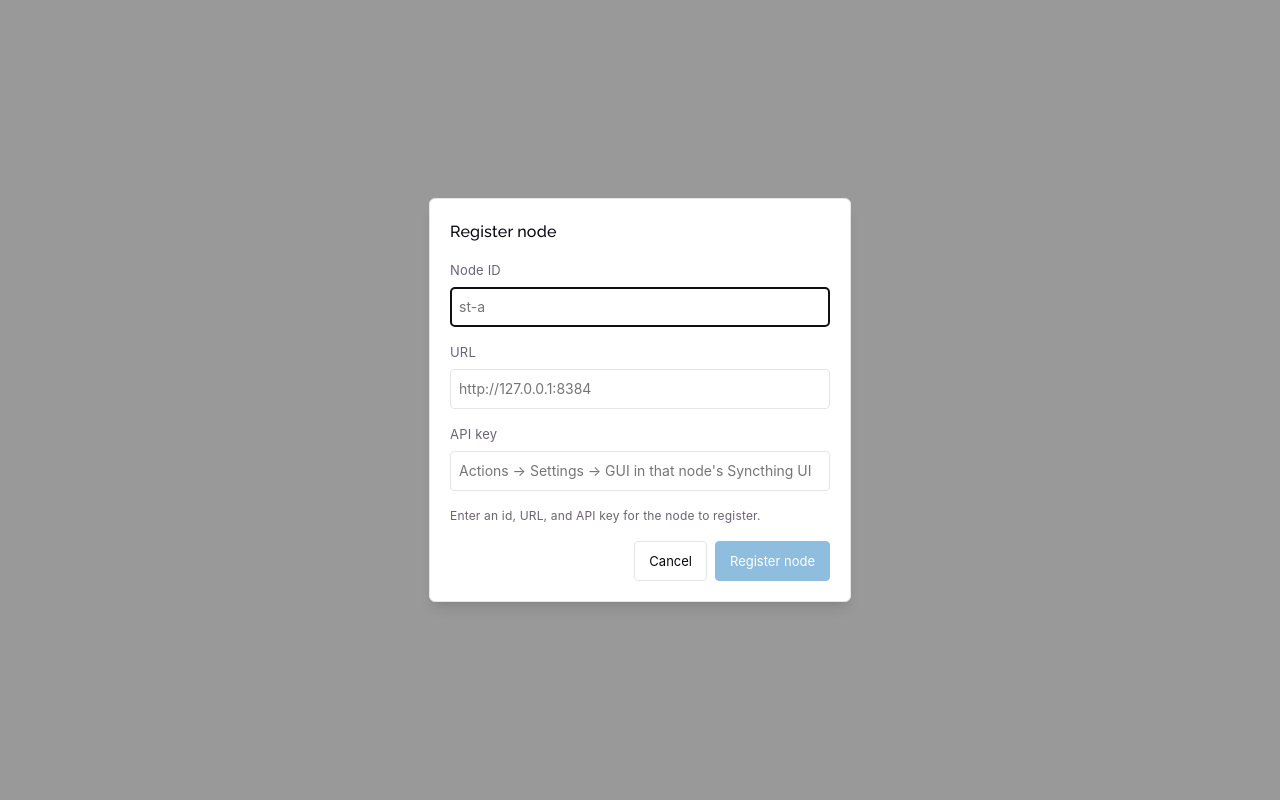
RegisterNodeDialog › shows the mutation error inline and re-enables the form instead of closing
Type "st-c" into the field with placeholder "st-a". click: x=640, y=307
box: [450, 287, 830, 327]
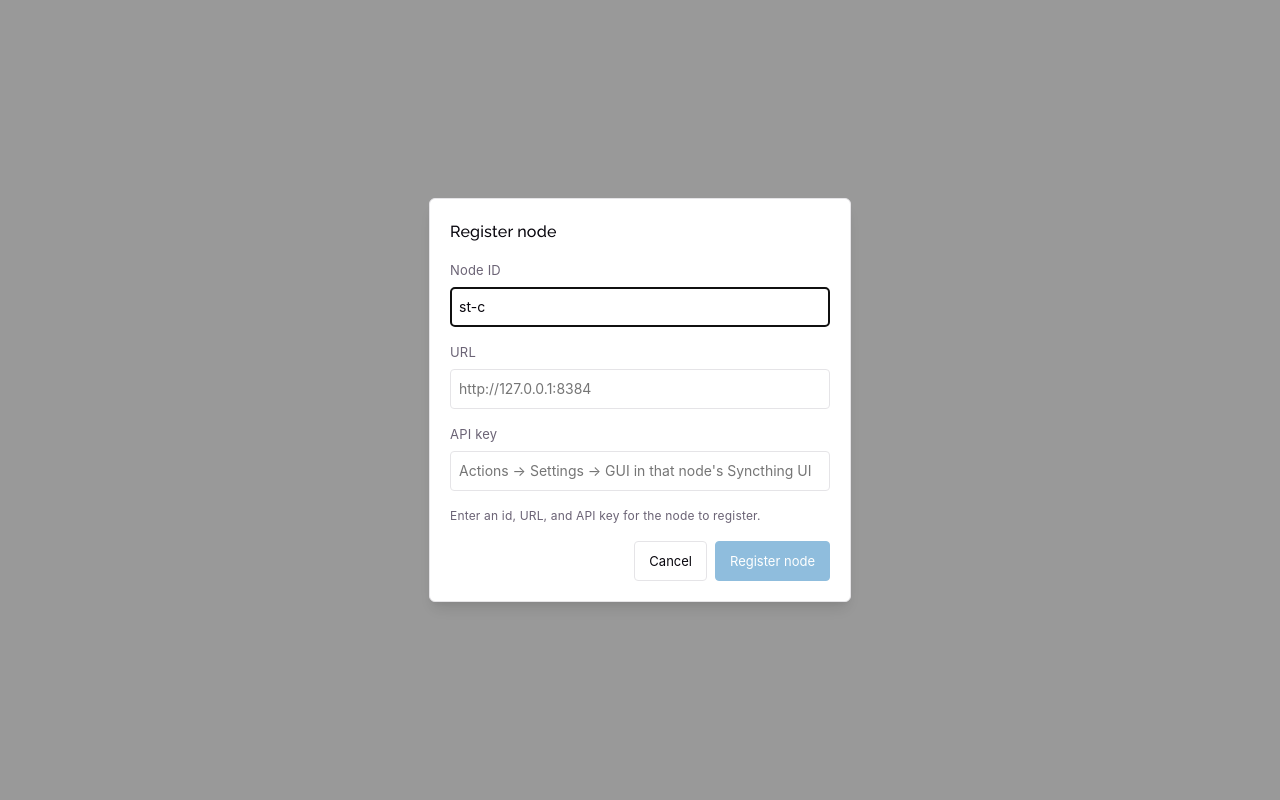
Type "http://127.0.0.1:38384" into the field with placeholder "http://127.0.0.1:8384". click: x=640, y=389
box: [450, 369, 830, 409]
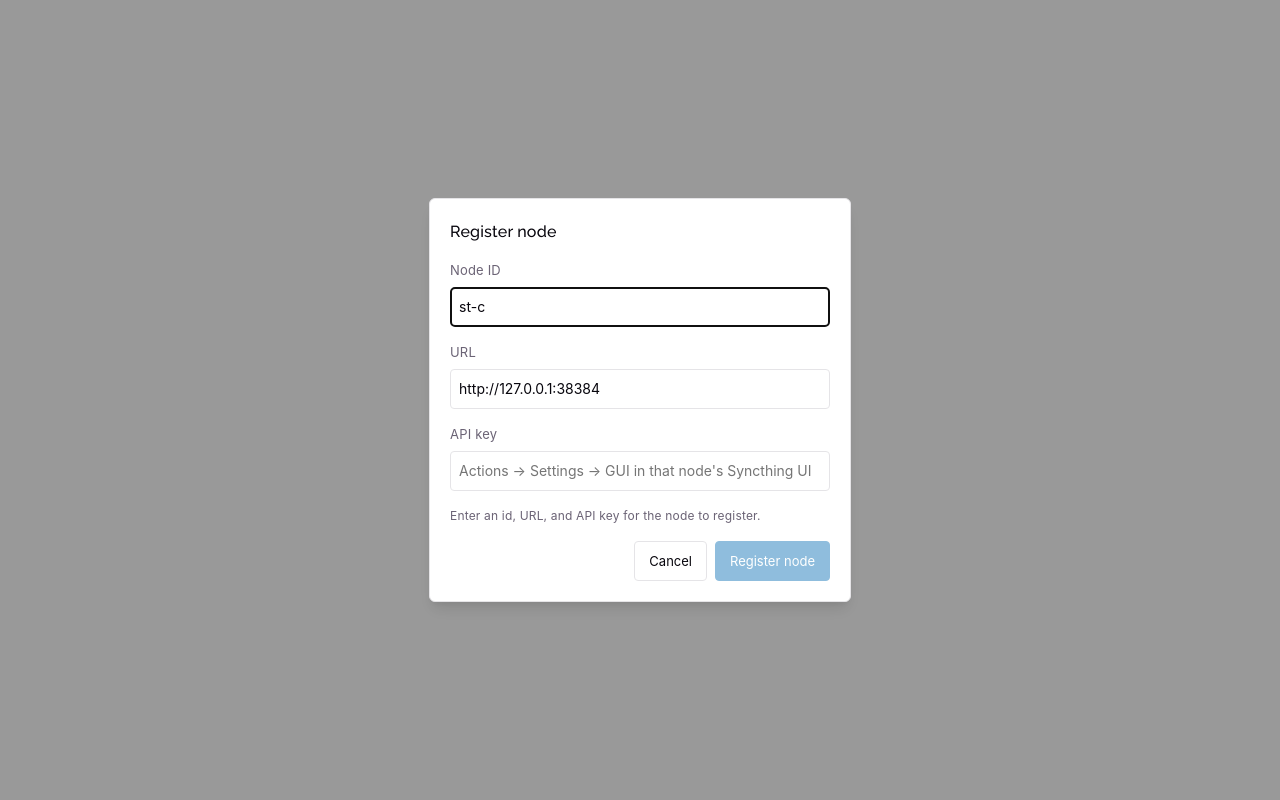
Type "the-api-key" into the password field with placeholder "Actions → Settings → GUI in that node's Syncthing UI". click: x=640, y=471
box: [450, 451, 830, 491]
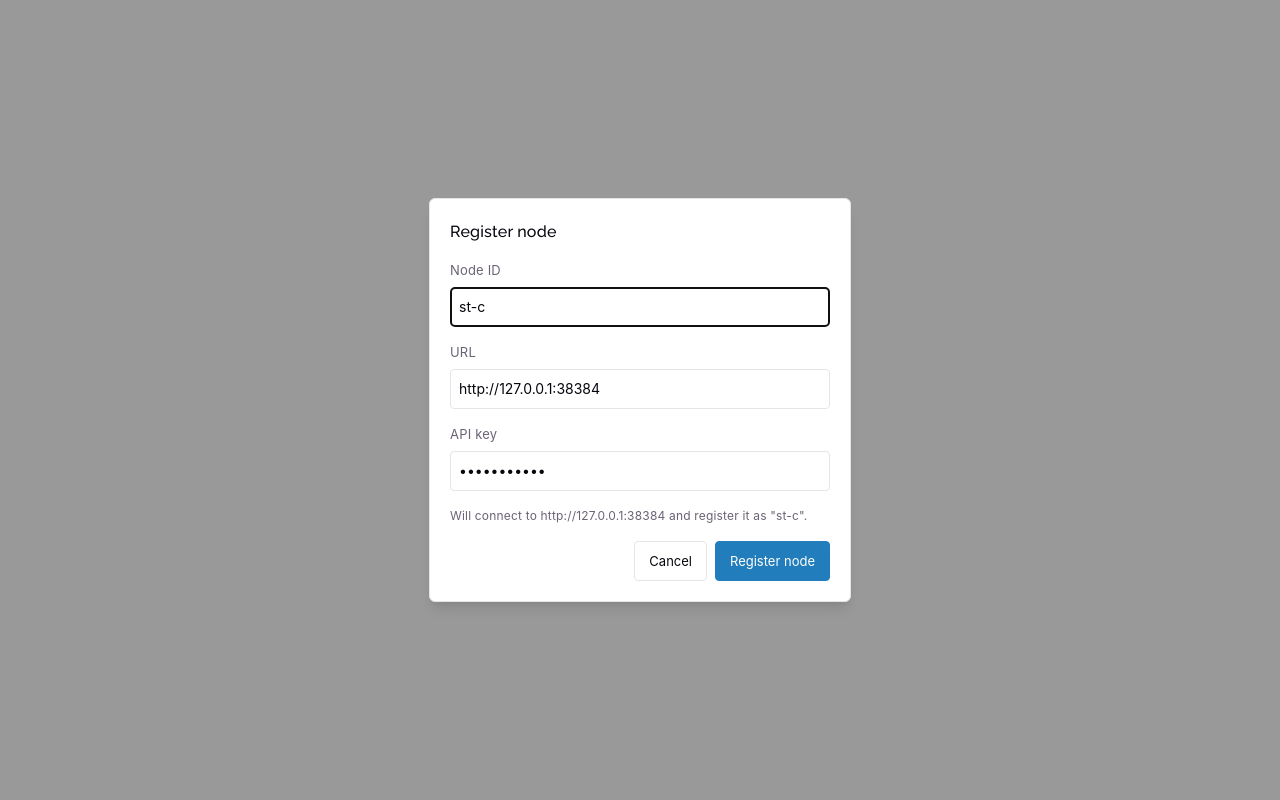
Click the button "Register node". click: x=772, y=561
box: [715, 541, 830, 581]
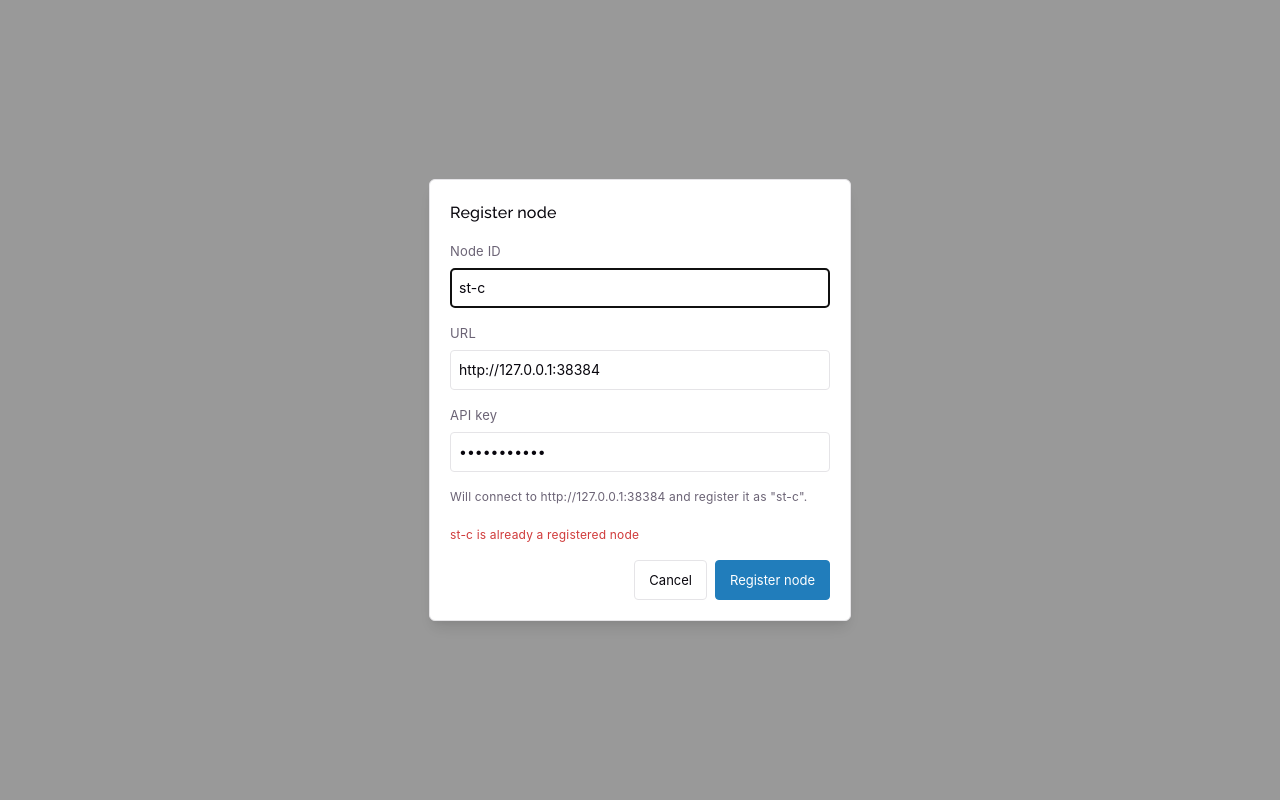
Check: the text "st-c is already a registered node" is shown, box [450, 527, 639, 542]
